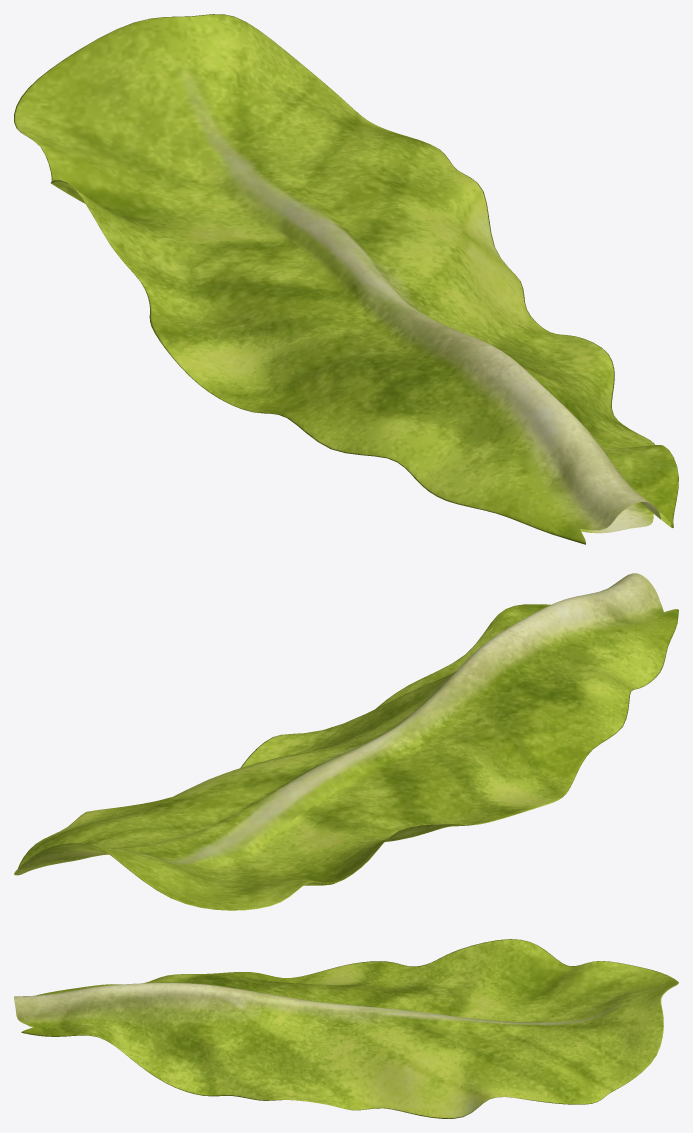
File: folhaAlface2.fbx
3 views of the same model, one above another, from view 1: azimuth 30°, elevation 25°; view 2: azimuth 150°, elevation 25°; view 3: azimuth 270°, elevation 25° (orthographic). The views are drawn at different scales.
Visible parts, largest first — view 1: LettuceRomaine.001; view 2: LettuceRomaine.001; view 3: LettuceRomaine.001.
Boxes of the visible parts, x1,y1,x2,y2 form: LettuceRomaine.001: (14,14,678,544); LettuceRomaine.001: (14,573,678,910); LettuceRomaine.001: (14,939,678,1118).
Bounding box in the file's own units: 58.53 × 18.74 × 132.
